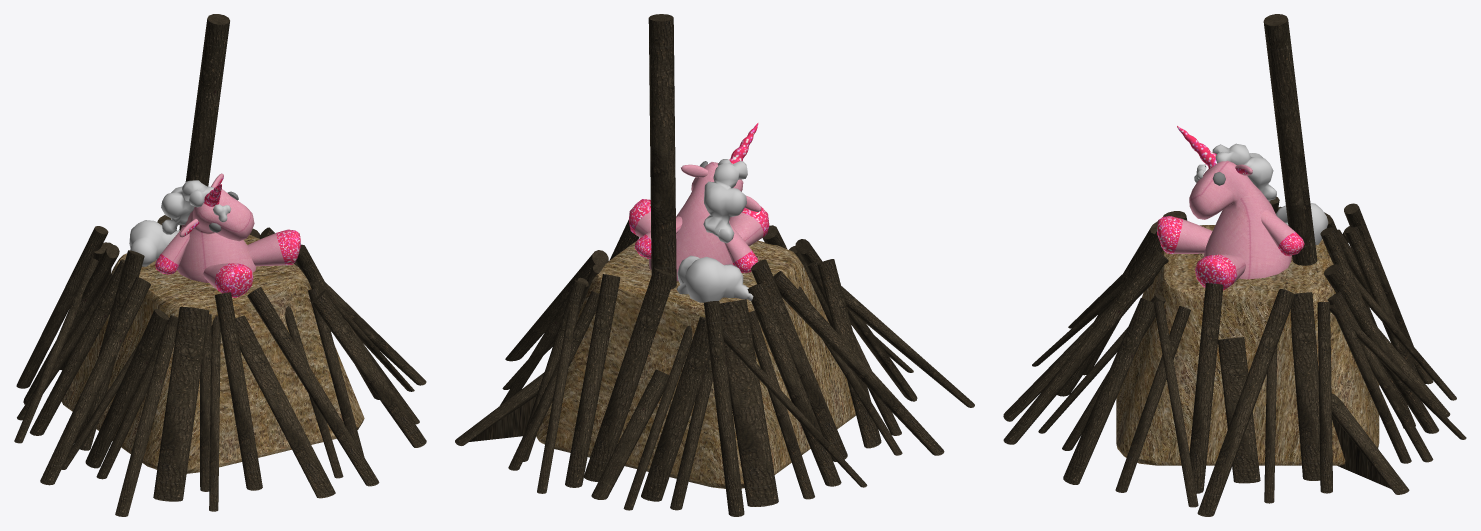
The model's file is licorne.fbx.
3 views of the same model, side by side, from view 1: azimuth 30°, elevation 25°; view 2: azimuth 150°, elevation 25°; view 3: azimuth 270°, elevation 25° (orthographic). The views are drawn at different scales.
Visible parts, largest first — view 1: branches, hay, body, fluffy; view 2: branches, hay, body, fluffy; view 3: branches, hay, body, fluffy.
Part boxes in pixels (box(x1,y1,x2,y2)): branches: box(14, 14, 426, 516); hay: box(61, 234, 364, 473); body: box(155, 173, 300, 297); fluffy: box(125, 180, 230, 266); branches: box(455, 14, 974, 516); hay: box(536, 240, 855, 488); body: box(628, 123, 769, 281); fluffy: box(676, 159, 753, 302); branches: box(1003, 14, 1466, 516); hay: box(1116, 225, 1379, 465); body: box(1157, 126, 1304, 290); fluffy: box(1194, 143, 1328, 244).
Size of the model in its own units: 1.05 by 0.9725 by 1.
